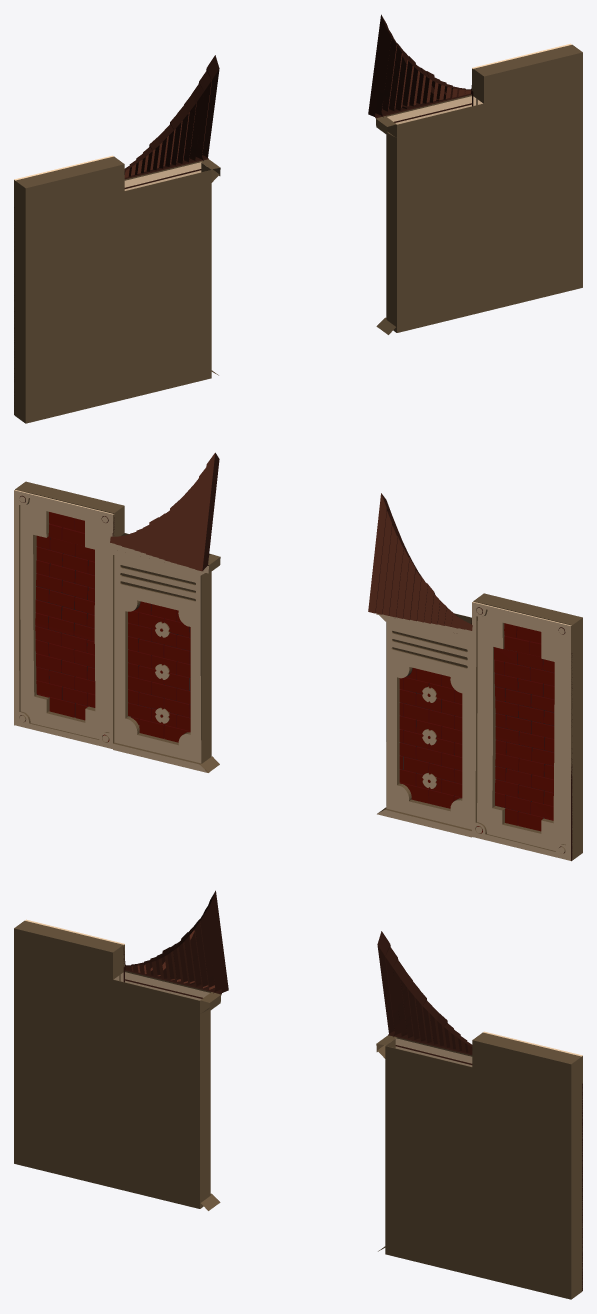
Rendered from Puerta_v19.fbx.
3 views of the same model, one above another, from view 1: azimuth 30°, elevation 25°; view 2: azimuth 150°, elevation 25°; view 3: azimuth 330°, elevation 25° (orthographic).
Visible parts, largest first — view 1: Plano.005, Plano, Puerta.001, Puerta, Plano.002, Plano.007; view 2: Puerta.001, Puerta, Plano.005, Plano, Plano.007, Plano.002; view 3: Plano, Plano.005, Puerta, Puerta.001, Plano.007, Plano.002.
Boxes of the visible parts, x1,y1,x2,y2 form: Plano.005: (15, 163, 211, 423); Plano: (386, 80, 582, 332); Puerta.001: (14, 55, 219, 415); Puerta: (368, 14, 571, 327); Plano.002: (473, 44, 582, 103); Plano.007: (15, 156, 124, 215); Puerta.001: (368, 493, 572, 861); Puerta: (14, 452, 219, 772); Plano.005: (386, 613, 582, 860); Plano: (121, 533, 211, 763); Plano.007: (473, 593, 582, 651); Plano.002: (15, 481, 124, 536); Plano: (385, 1039, 581, 1299); Plano.005: (14, 956, 210, 1208); Puerta: (377, 931, 582, 1291); Puerta.001: (25, 890, 228, 1203); Plano.007: (14, 920, 123, 979); Plano.002: (472, 1032, 581, 1091).
Bounding box in the file's own units: 1126 × 612 × 66.77.
